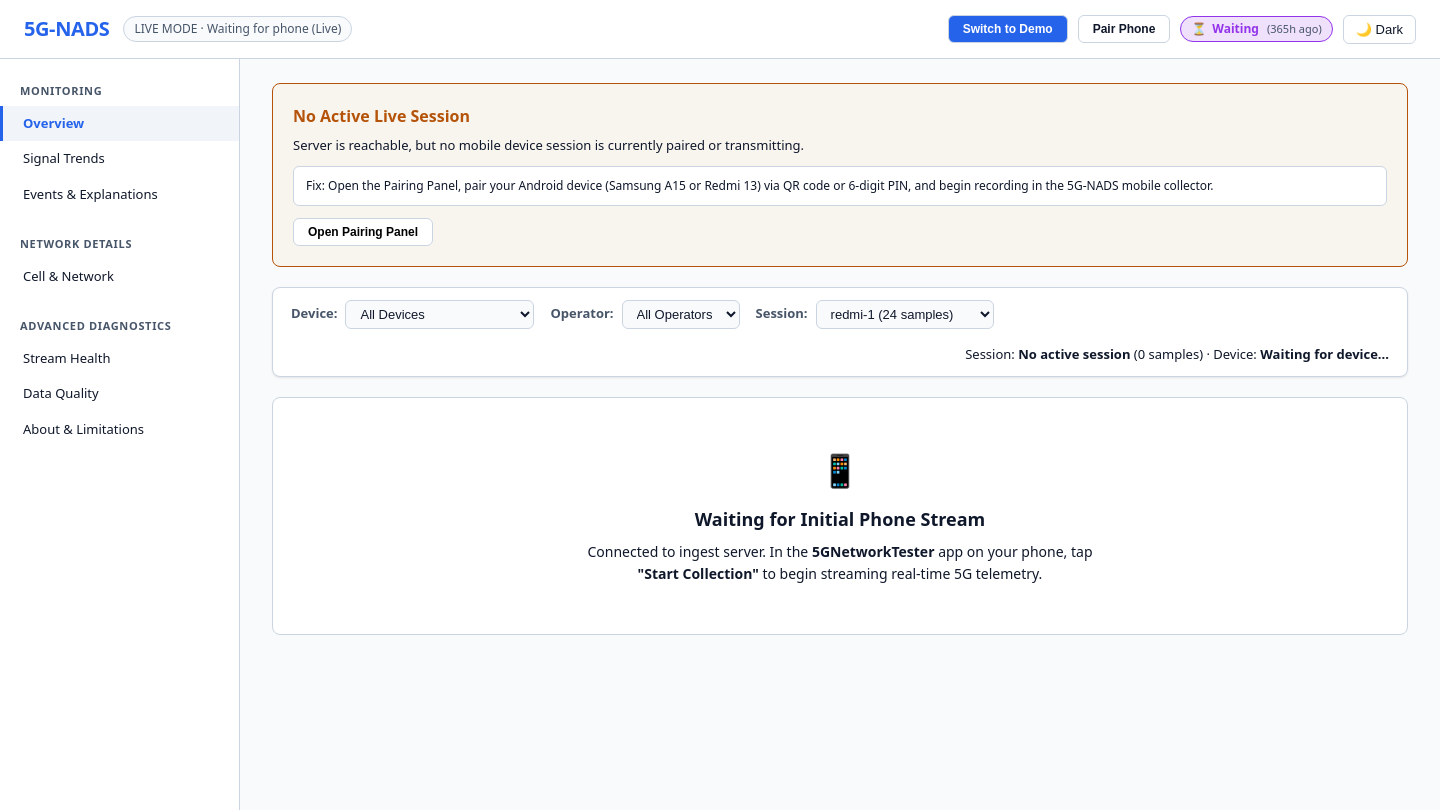
Scenario: App Shell & Navigation (T16-006 / T16-007) › Empty and error states in Live mode (T17-010) › displays no session state with fix instructions and pairing button
This screenshot has width=1440, height=810.
Expected: the element with test id "no-session-card" is shown, [272,83,1408,266]
Expected: the text "6-digit PIN" is shown, [306,176,1213,194]
Step 1. Click the button with test id "open-pairing-btn" → click(363, 232), box [293,218,433,246]
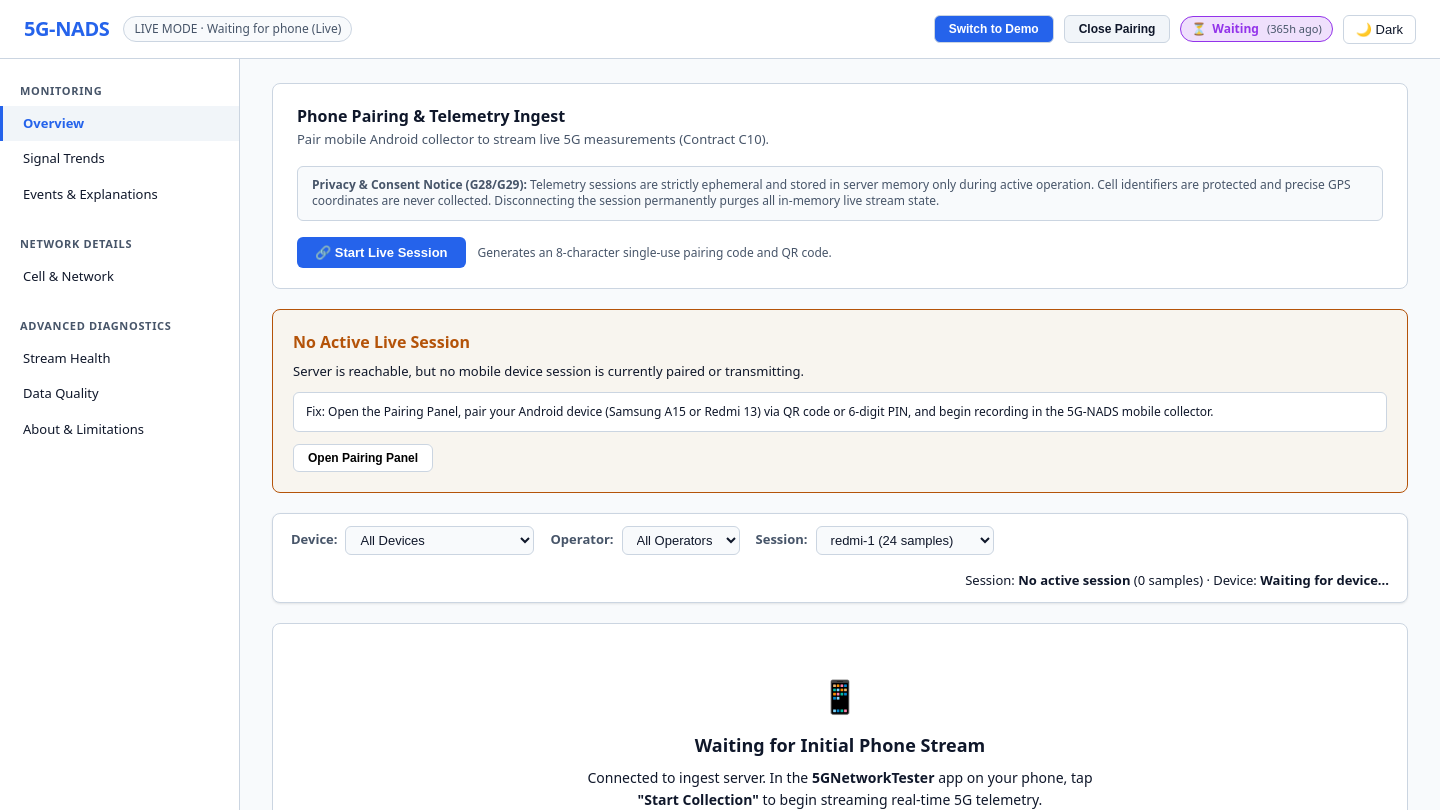
Expected: the element with test id "pairing-panel" is shown, [272,83,1408,289]
Expected: the heading "Phone Pairing & Telemetry Ingest" is shown, [297,105,565,127]
